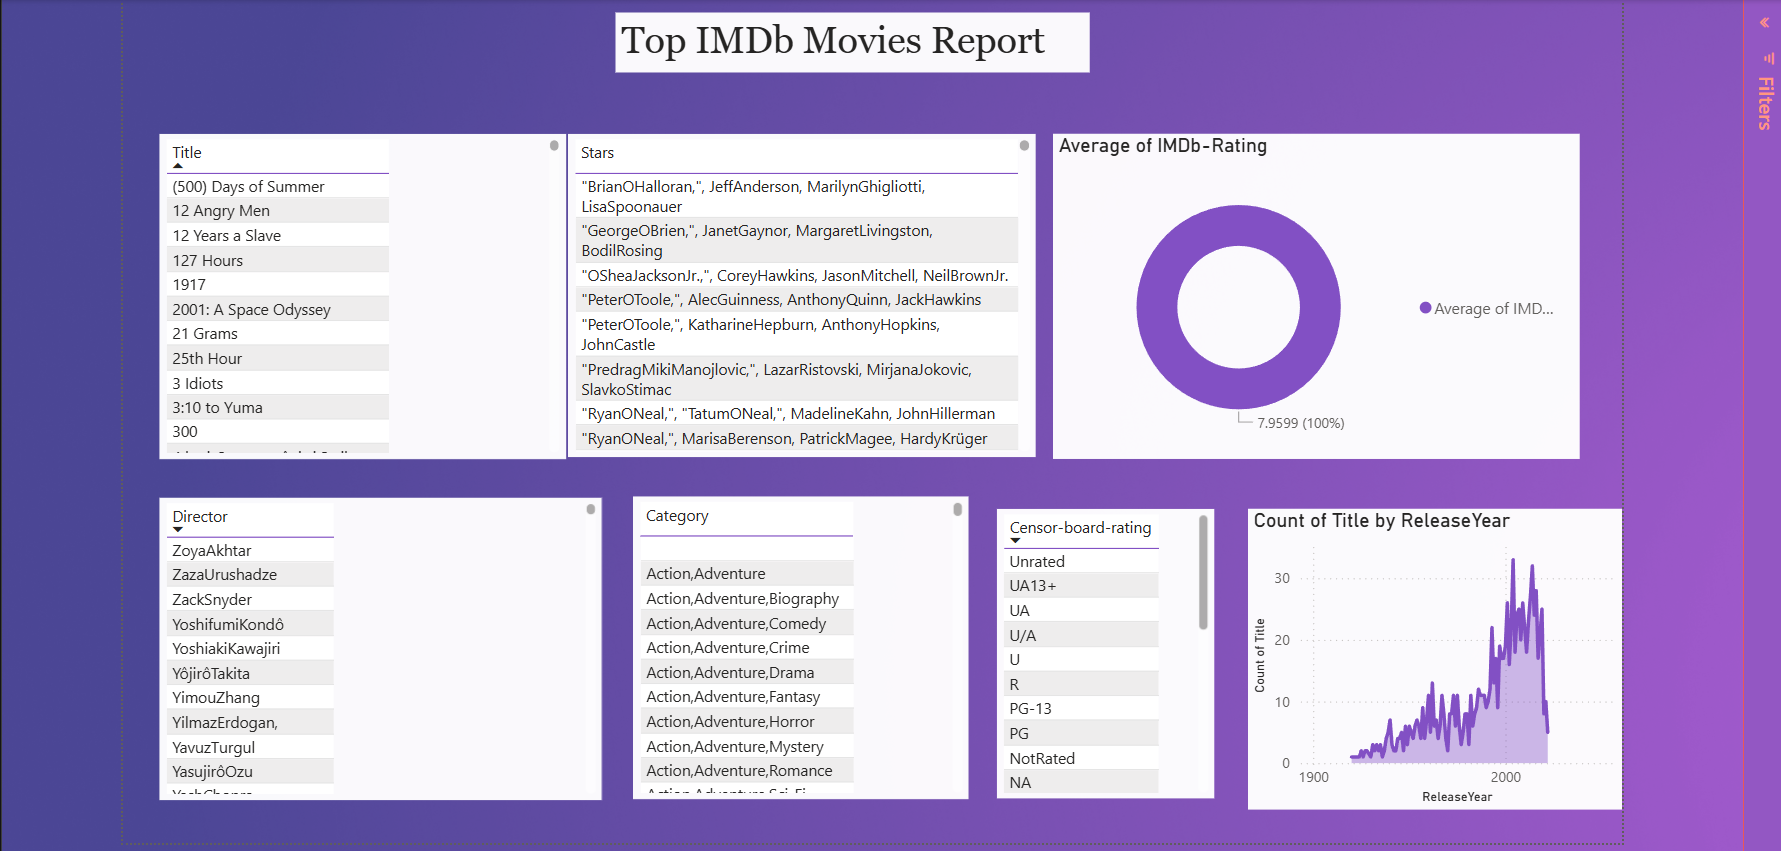

This screenshot's page, from the dashboard's own definition file:
{"tool":"powerbi","page":{"name":"Page 1","canvas":[1280,720],"ordinal":0},"visuals":[{"type":"textbox","box":[420.4,10.7,405,50.9],"z":0},{"type":"donutChart","fields":{"Y":["Avg(Worksheet.IMDb-Rating)"]},"box":[793.4,113.8,449.3,277.3],"z":1000},{"type":"areaChart","fields":{"Category":["Worksheet.ReleaseYear"],"Y":["CountNonNull(Worksheet.Title)"]},"box":[960,434.3,320,257.1],"z":2000},{"type":"tableEx","fields":{"Values":["Worksheet.Director"]},"box":[30.8,425.2,377.8,258.2],"z":3000},{"type":"tableEx","fields":{"Values":["Worksheet.Category"]},"box":[435.8,424,286.6,258.2],"z":4000},{"type":"tableEx","fields":{"Values":["Worksheet.Censor-board-rating"]},"box":[746.1,434.6,185.9,247.5],"z":5000},{"type":"tableEx","fields":{"Values":["Worksheet.Title"]},"box":[31.3,113.8,346.9,277.3],"z":6000},{"type":"tableEx","fields":{"Values":["Worksheet.Stars"]},"box":[380.2,113.7,399.1,275.9],"z":7000}]}

Visuals, with their boxes in screenshot pixels (x1, y1, x2, y2):
textbox: (left=614, top=8, right=1085, bottom=67)
donutChart - Avg(Worksheet.IMDb-Rating): (left=1048, top=128, right=1570, bottom=450)
areaChart - Worksheet.ReleaseYear x CountNonNull(Worksheet.Title): (left=1241, top=500, right=1613, bottom=799)
tableEx - Worksheet.Director: (left=161, top=490, right=600, bottom=790)
tableEx - Worksheet.Category: (left=632, top=488, right=965, bottom=788)
tableEx - Worksheet.Censor-board-rating: (left=993, top=501, right=1209, bottom=788)
tableEx - Worksheet.Title: (left=162, top=128, right=565, bottom=450)
tableEx - Worksheet.Stars: (left=567, top=128, right=1031, bottom=448)
